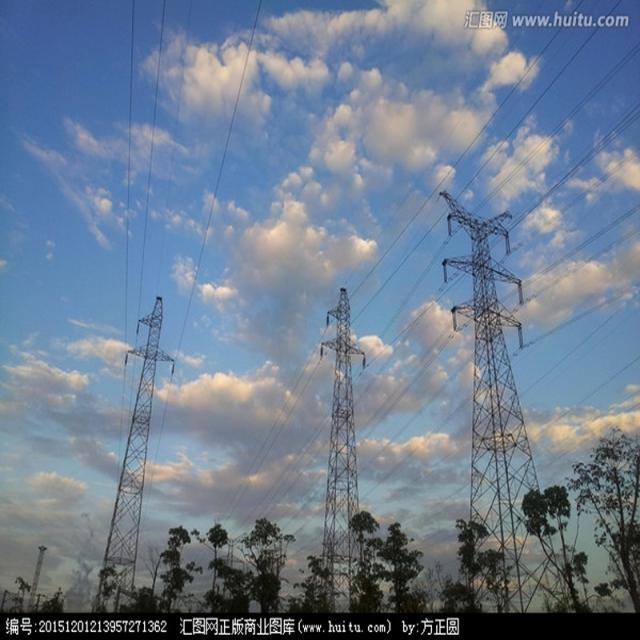non-critical vegetation: (440, 192, 566, 614), (312, 276, 376, 610), (108, 292, 166, 604)
